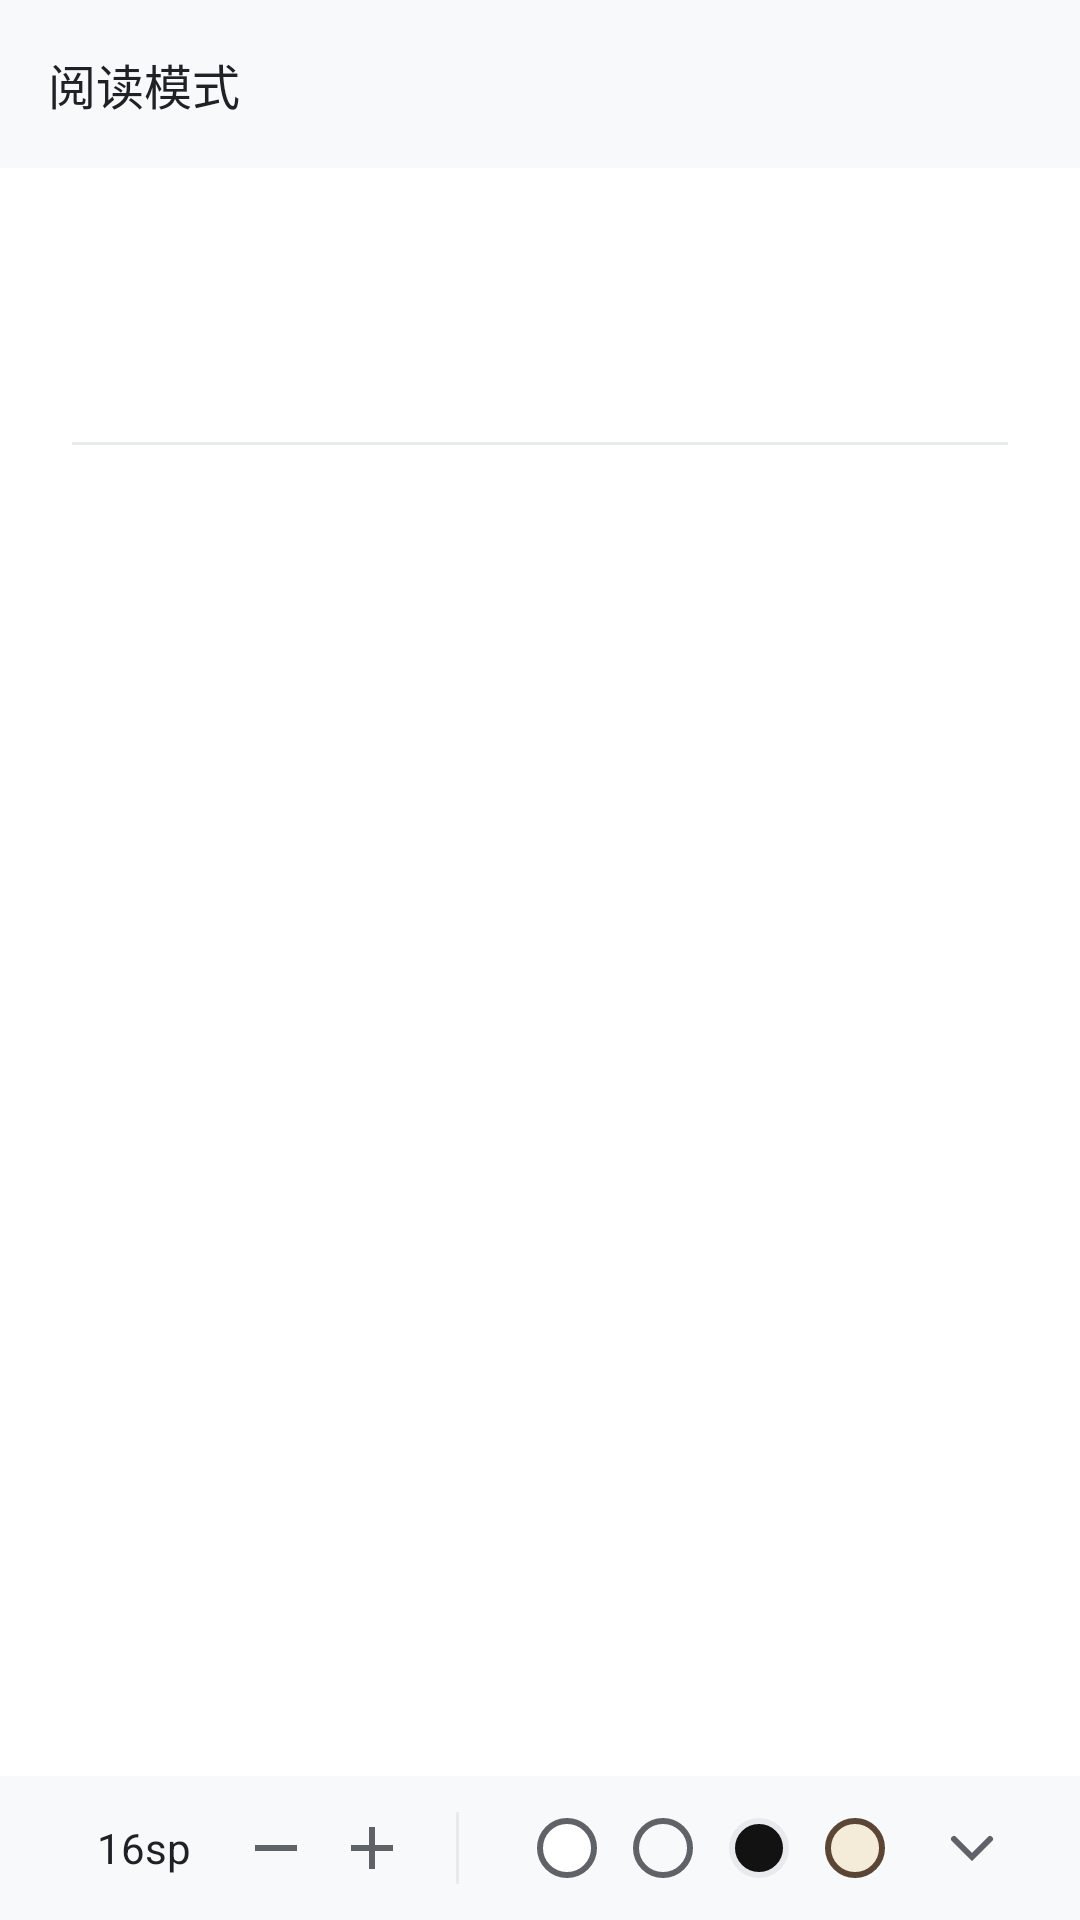

Point at icon controls on the screen. Image size 1080px×1920px, points as (x=x, y=y).
增大字体: (x=372, y=1848)
展开设置: (x=972, y=1848)
护眼主题: (x=855, y=1848)
浅色主题: (x=663, y=1848)
深色主题: (x=759, y=1848)
白色主题: (x=567, y=1848)
